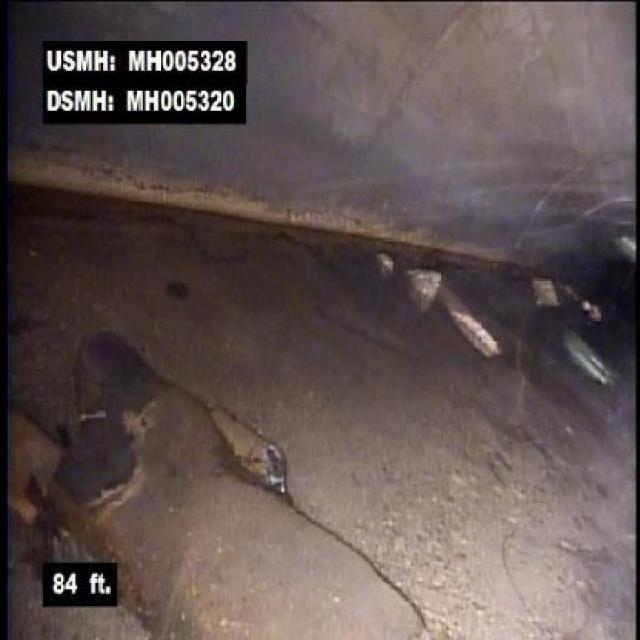Debris: (372, 268, 497, 358)
